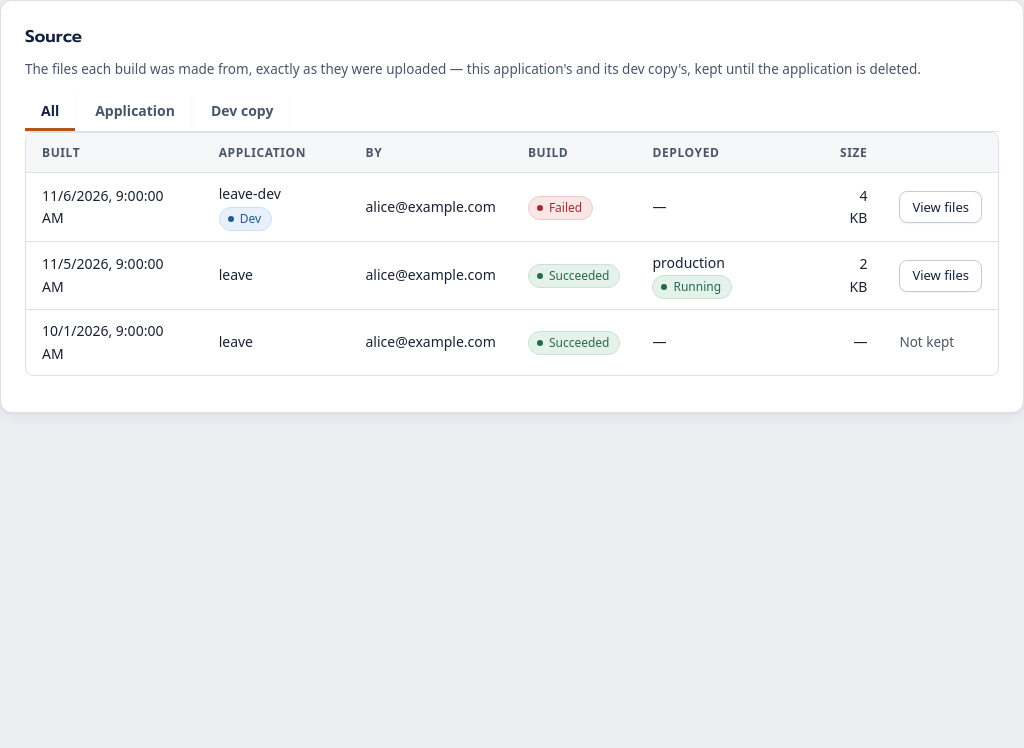
Test: SourceHistoryCard › lists the application's and its dev copy's builds, and opens a dev build's files
This screenshot has width=1024, height=748.
Check: the number of rows is 4, box [26,133,998,174]; [26,174,998,242]; [26,242,998,310]; [26,310,998,375]
Check: the row that starts with "11/6/2026, 9:00:00 AM" shows "leave-dev", box [219,184,281,204]
Step 1. Click the tab "Dev copy" → [242, 112], box [195,93,289,131]
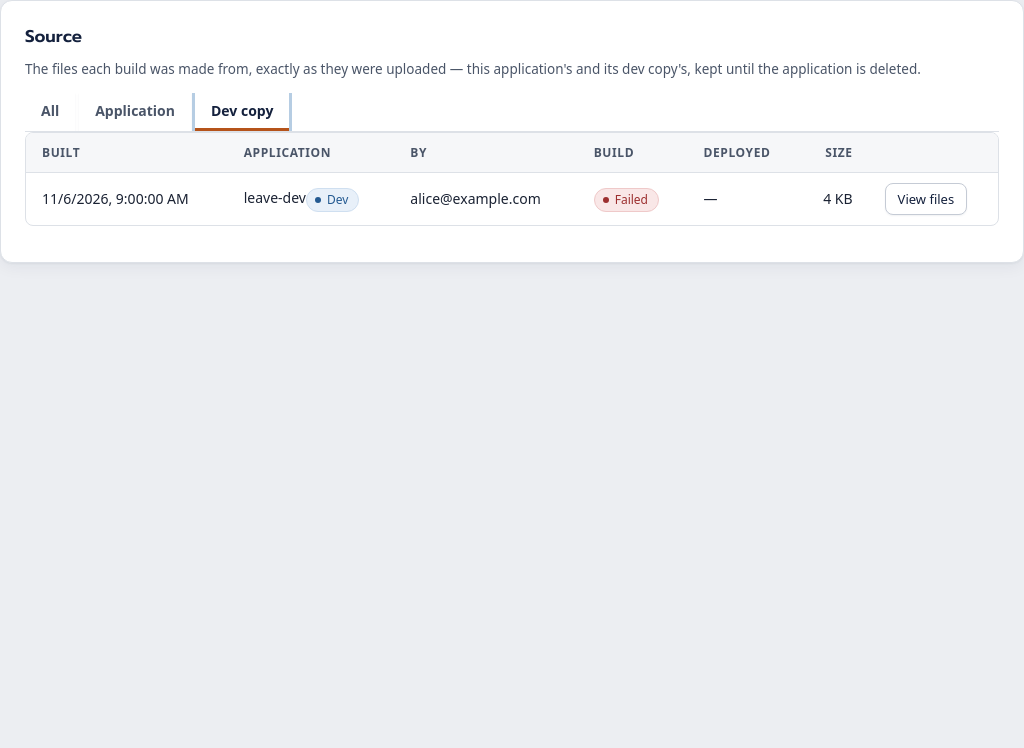
Check: the number of rows is 2, box [26,133,998,174]; [26,174,998,226]
Step 2. Click the tab "Application" → [135, 112], box [79,93,191,131]
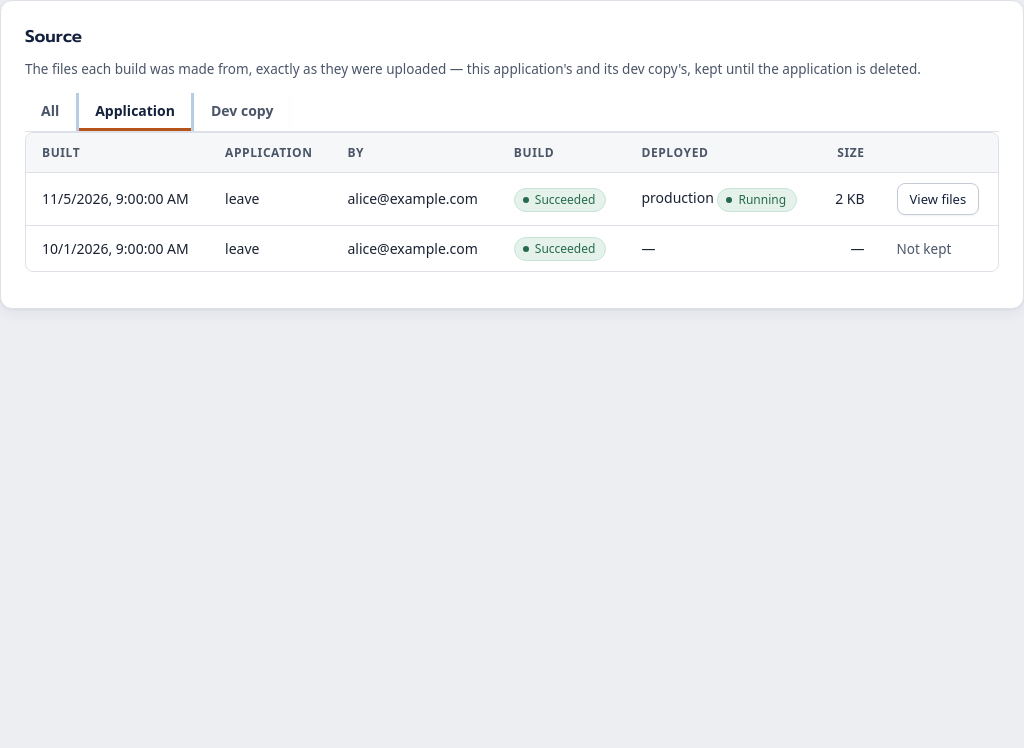
Check: the number of rows is 3, box [26,133,998,174]; [26,174,998,226]; [26,226,998,272]
Step 3. Click the tab "All" → [50, 112], box [25,93,75,131]
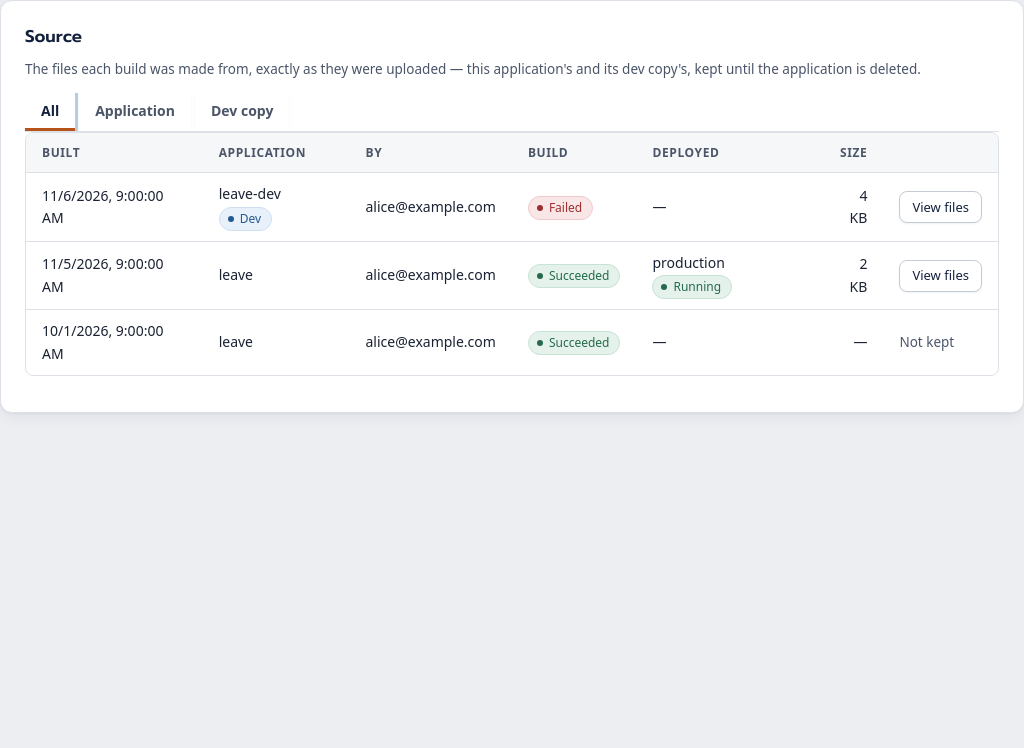
Step 4. Click the button with aria-label "View the source of leave-dev" → [941, 207], box [899,191,982,223]
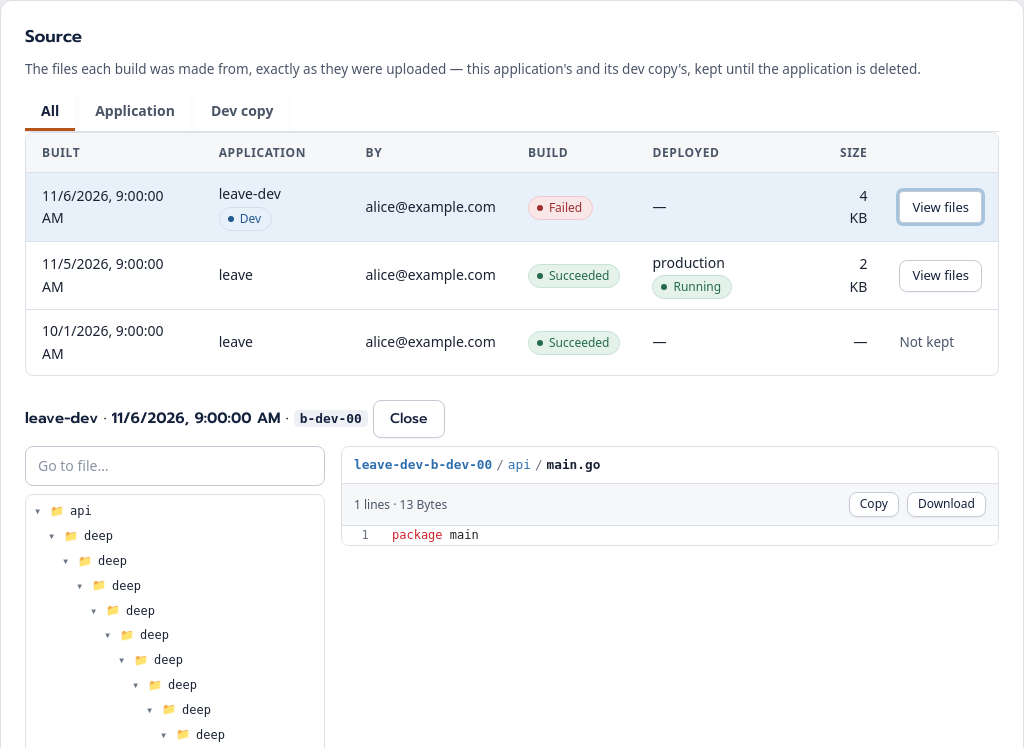
Check: the search field named "Filter files" is shown, box [25,446,325,486]
